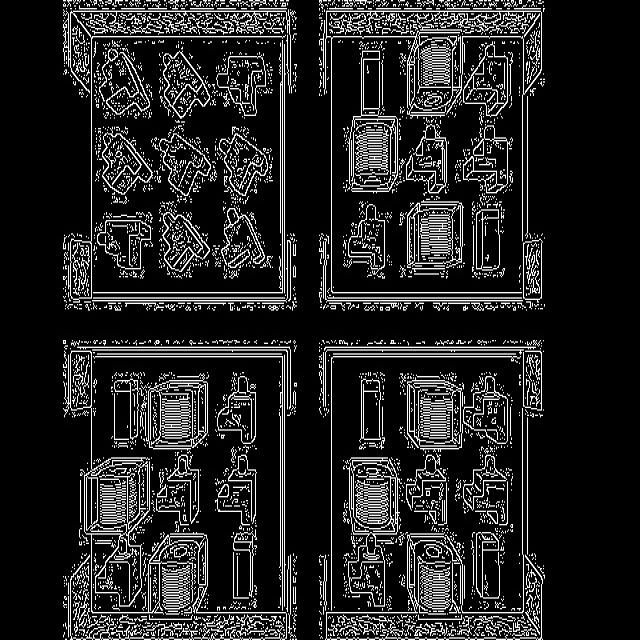Battery: (472, 203, 504, 275), (112, 372, 142, 448), (232, 527, 256, 608), (359, 374, 385, 448), (474, 532, 500, 598), (361, 42, 384, 115), (232, 530, 254, 598)
Pump: (81, 457, 150, 535), (401, 373, 464, 448), (146, 375, 208, 450), (150, 533, 208, 613), (408, 32, 462, 117), (408, 533, 464, 613), (406, 200, 462, 277), (349, 457, 398, 535), (349, 117, 398, 192)
Sensor: (153, 123, 216, 202), (95, 127, 156, 203), (94, 40, 151, 118), (212, 206, 272, 278), (216, 127, 272, 203), (456, 123, 512, 197), (160, 202, 209, 278), (95, 213, 152, 278), (216, 53, 272, 117), (344, 202, 391, 278), (464, 43, 512, 117), (93, 537, 142, 608), (344, 533, 391, 607), (464, 372, 511, 445), (161, 50, 210, 120), (155, 453, 200, 527), (464, 453, 509, 524), (407, 120, 448, 195), (406, 455, 448, 525), (218, 372, 256, 445), (218, 455, 256, 527)
